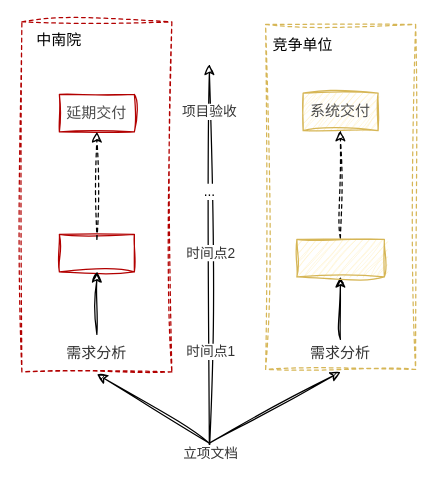
Some shapes in this 438 by 484 pixel diagram are drawn without their labels. Here are the shapes that lost their labels. From the top down, the centre of each, then its label:
At (x=96, y=252): "原型设计".
At (x=340, y=257): "第一版系统交付".
